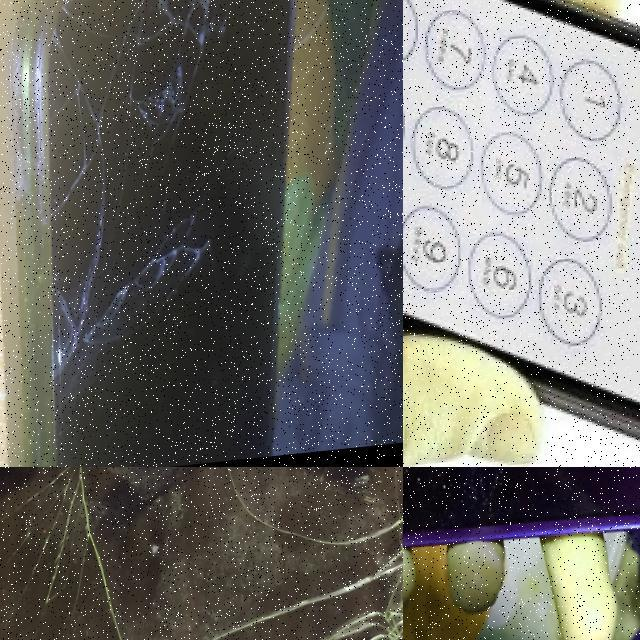screen crack: (27, 0, 264, 409), (131, 467, 403, 640), (0, 467, 216, 615)
